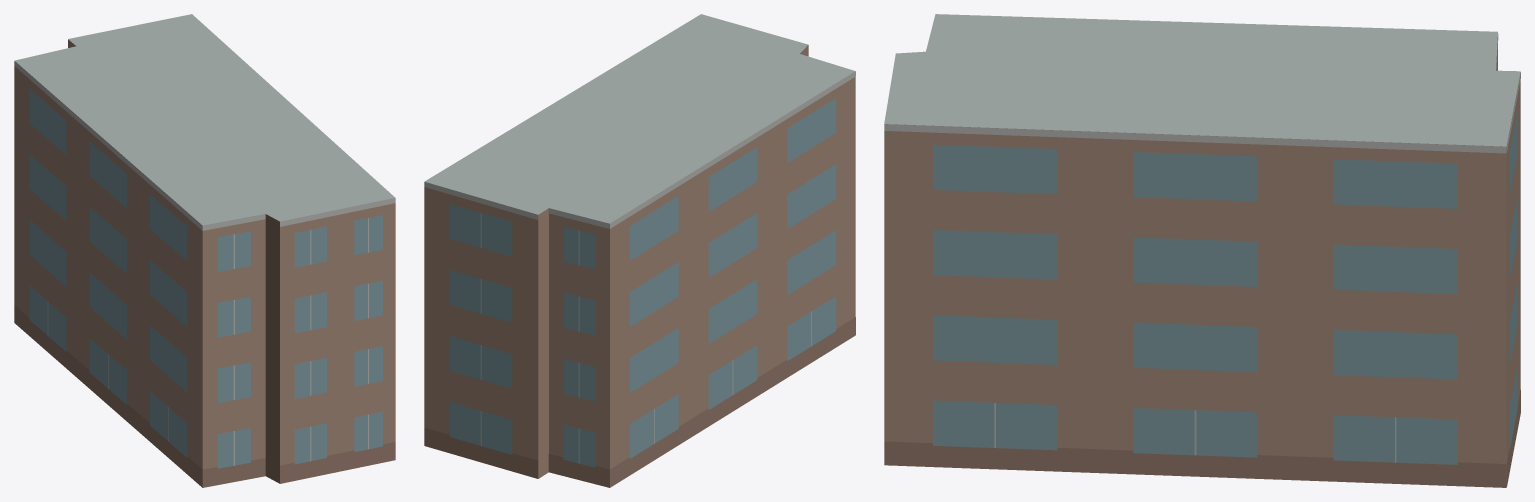
File: survey-upis-32479785.glb
3 renders of one model, left to right at view 1: azimuth 30°, elevation 25°; view 2: azimuth 150°, elevation 25°; view 3: azimuth 270°, elevation 25°, orthographic. The views are drawn at different scales.
Parts seen in each view (by area): view 1: survey-upis-32479785.tmp; view 2: survey-upis-32479785.tmp; view 3: survey-upis-32479785.tmp.
Boxes of the visible parts, bbox=[...] form: survey-upis-32479785.tmp: bbox=[14, 14, 395, 487]; survey-upis-32479785.tmp: bbox=[424, 14, 855, 487]; survey-upis-32479785.tmp: bbox=[884, 14, 1520, 487].
Size of the model in its own units: 10.09 by 12.1 by 20.47.
